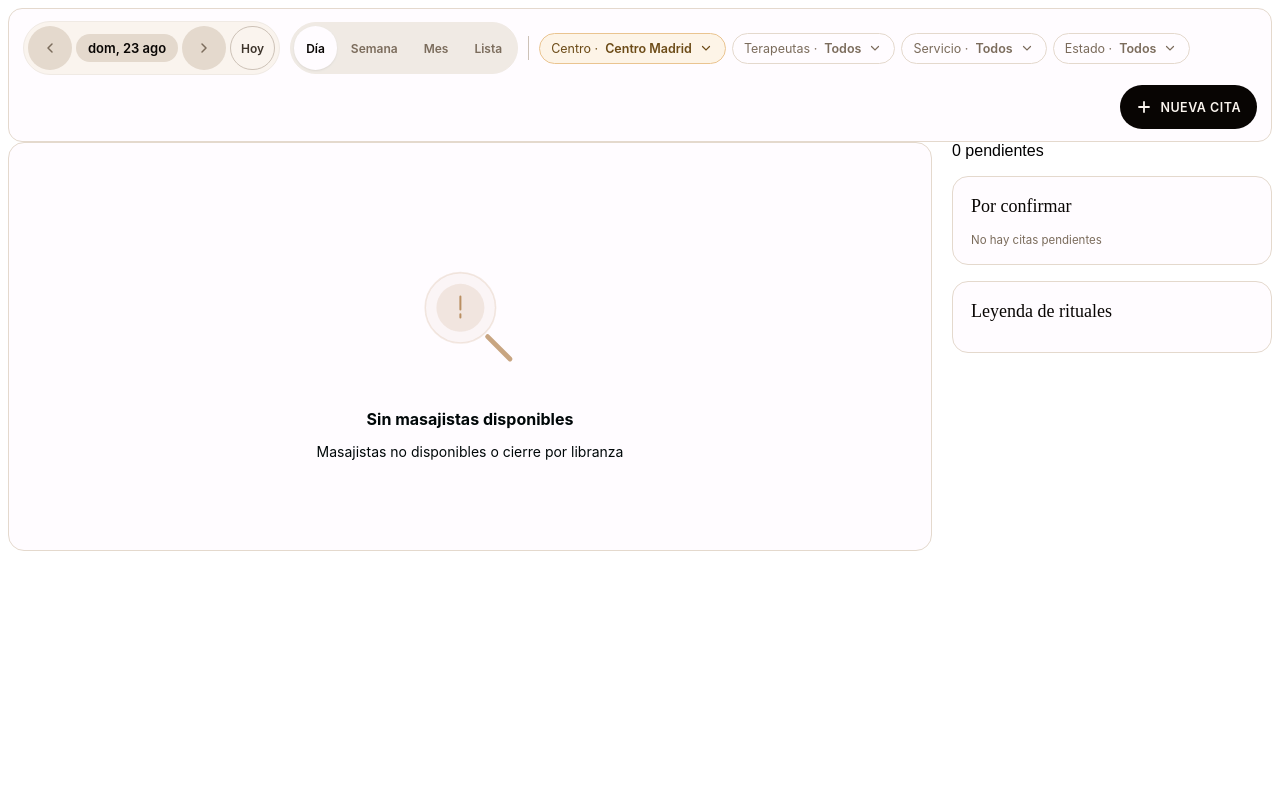
Test: AdminAgendaView — centre selector (multi-centre) › lists ALL active centres in the Centro menu
Click the button "Centro · Centro Madrid": click(632, 48) [539,32,726,64]
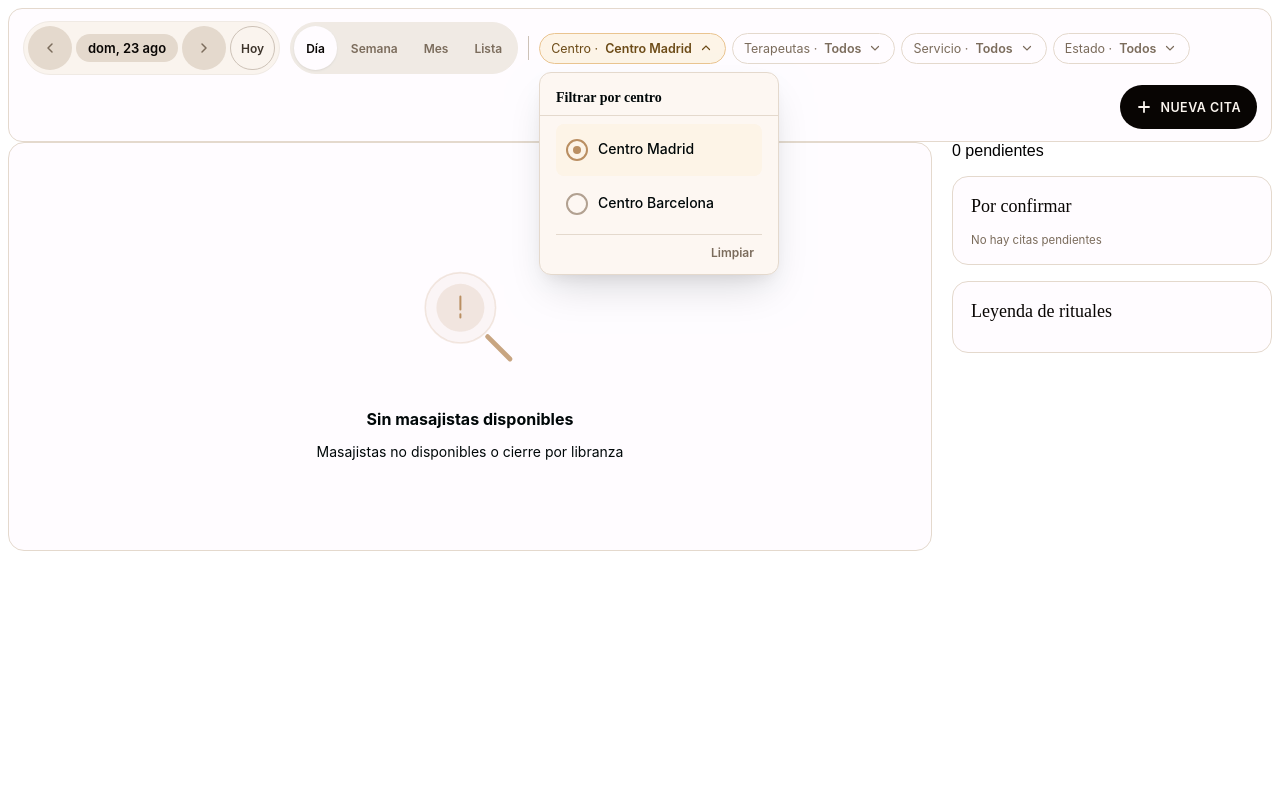
Expected: the 1st text "Centro Madrid" is shown, [605,40,692,56]
Now the text "Centro Barcelona" is shown, box [598,193,714,211]
